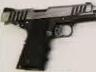gun: (1, 1, 96, 72)
